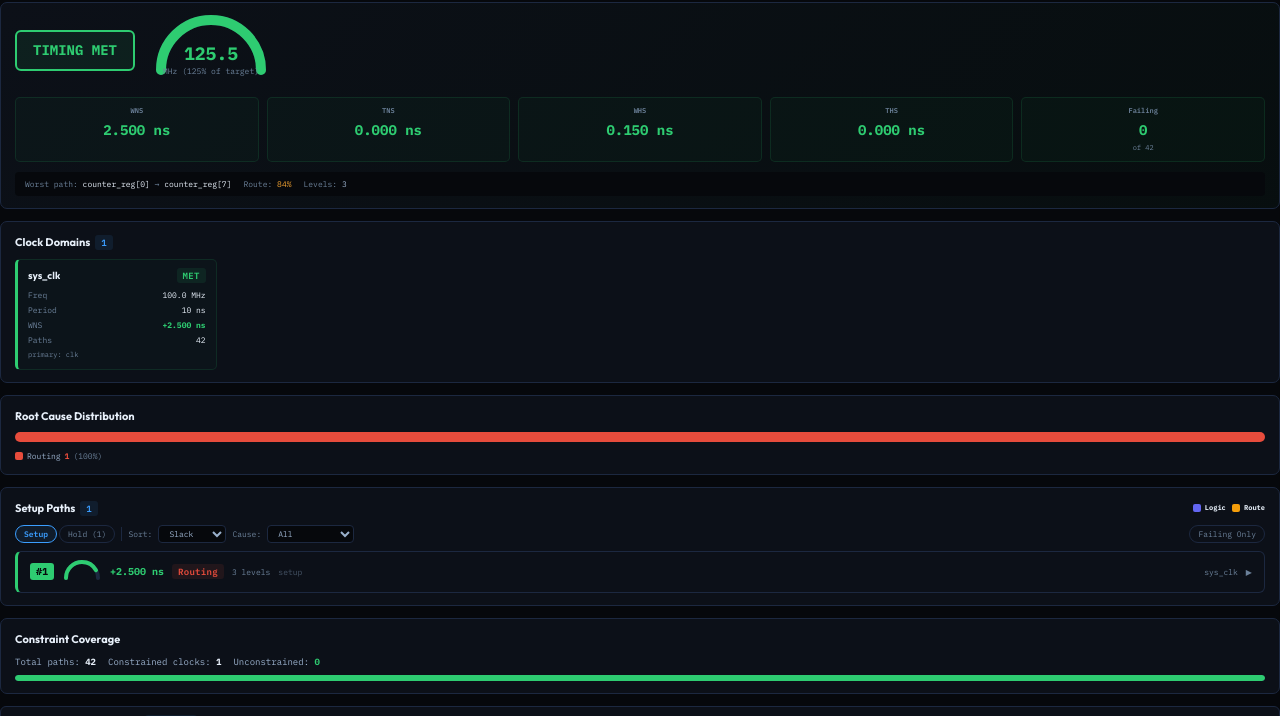
Test case: TimingAnalyzer › switches to Hold view when Hold toggle is clicked
The image size is (1280, 716).
// Click the one that's a clickable chip (in the filter toolbar)
Click the text "Hold (1)" at (87, 534), box [59,524,115,542]
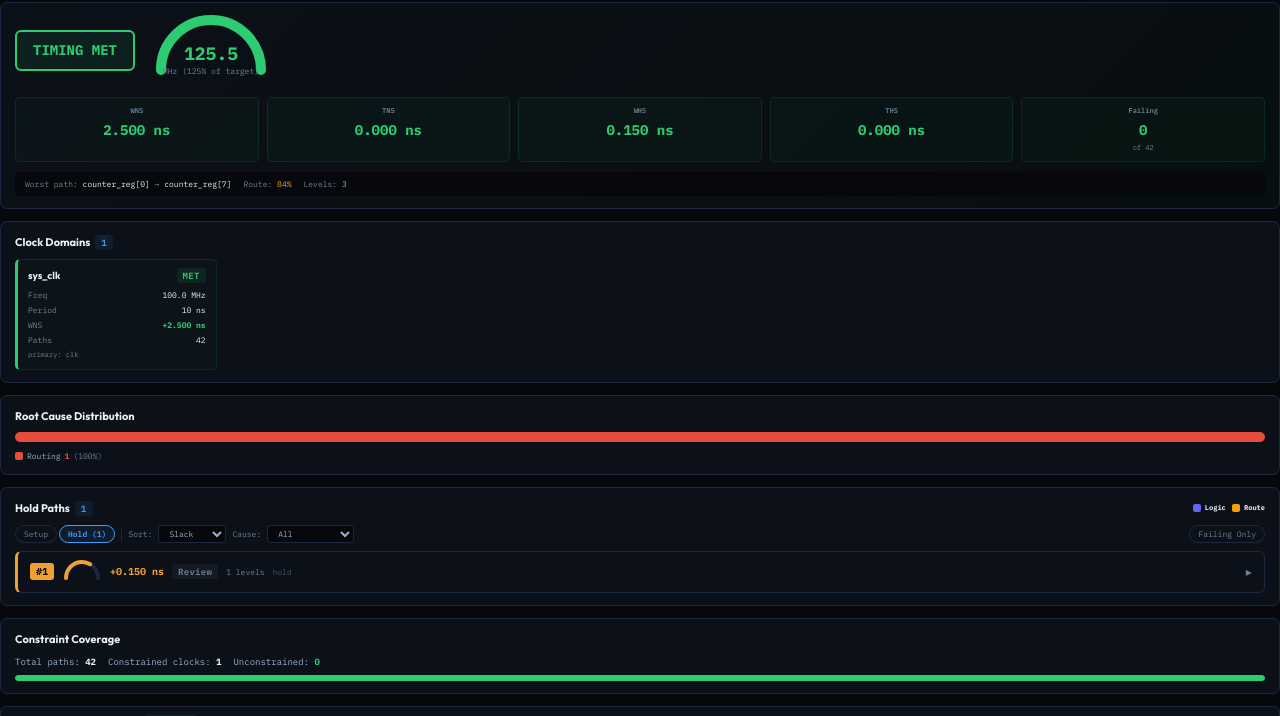
Expected: the text "Hold Paths 1 Logic Route" is shown, [15,500,1265,516]
